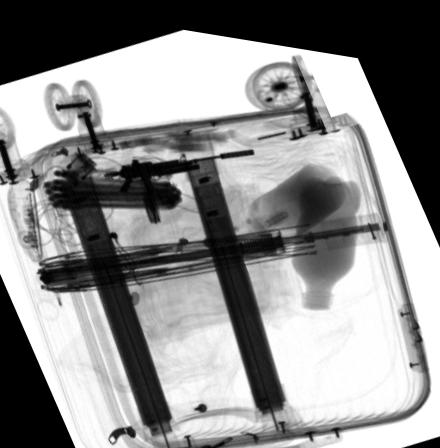Gun: (101, 139, 256, 187)
